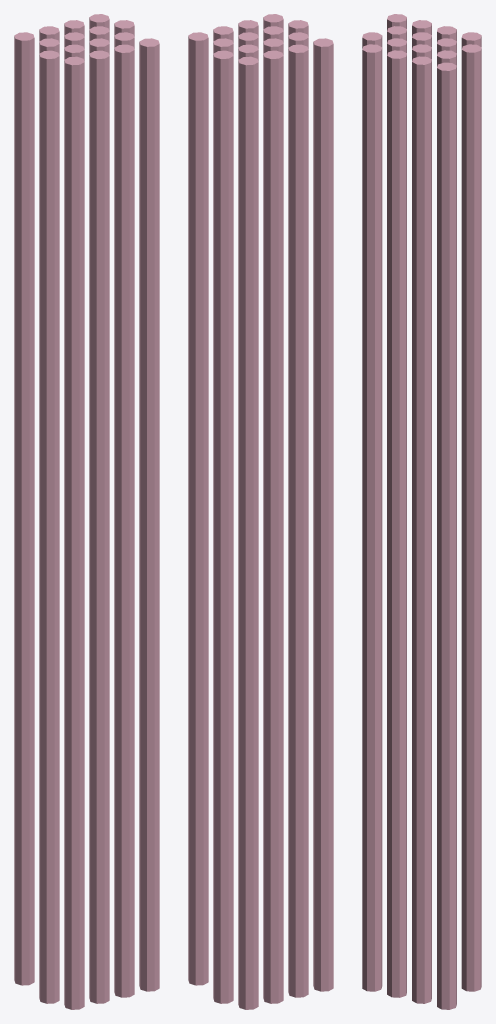
The model's file is myocytes_only.glb.
3 renders of one model, left to right at view 1: azimuth 30°, elevation 25°; view 2: azimuth 210°, elevation 25°; view 3: azimuth 330°, elevation 25°, orthographic.
Visible parts, largest first — view 1: Cylinder.001, Cylinder.014, Cylinder, Cylinder.006, Cylinder.010, Cylinder.002; view 2: Cylinder.001, Cylinder.014, Cylinder.005, Cylinder.009, Cylinder.015, Cylinder.013; view 3: Cylinder.002, Cylinder.015, Cylinder.006, Cylinder.010, Cylinder.014.
Boxes of the visible parts, box(x1,y1,x2,y2) form: Cylinder.001: box(14, 32, 34, 985); Cylinder.014: box(139, 38, 159, 991); Cylinder: box(39, 50, 59, 1003); Cylinder.006: box(89, 50, 109, 1003); Cylinder.010: box(114, 44, 134, 997); Cylinder.002: box(64, 56, 84, 1009); Cylinder.001: box(313, 38, 333, 991); Cylinder.014: box(188, 32, 208, 985); Cylinder.005: box(288, 44, 308, 997); Cylinder.009: box(263, 50, 283, 1003); Cylinder.015: box(213, 50, 233, 1003); Cylinder.013: box(238, 56, 258, 1009); Cylinder.002: box(362, 44, 382, 991); Cylinder.015: box(461, 44, 481, 991); Cylinder.006: box(387, 50, 406, 997); Cylinder.010: box(412, 56, 431, 1003); Cylinder.014: box(437, 62, 456, 1009).
Size of the model in its own units: 117 by 1000 by 92.
